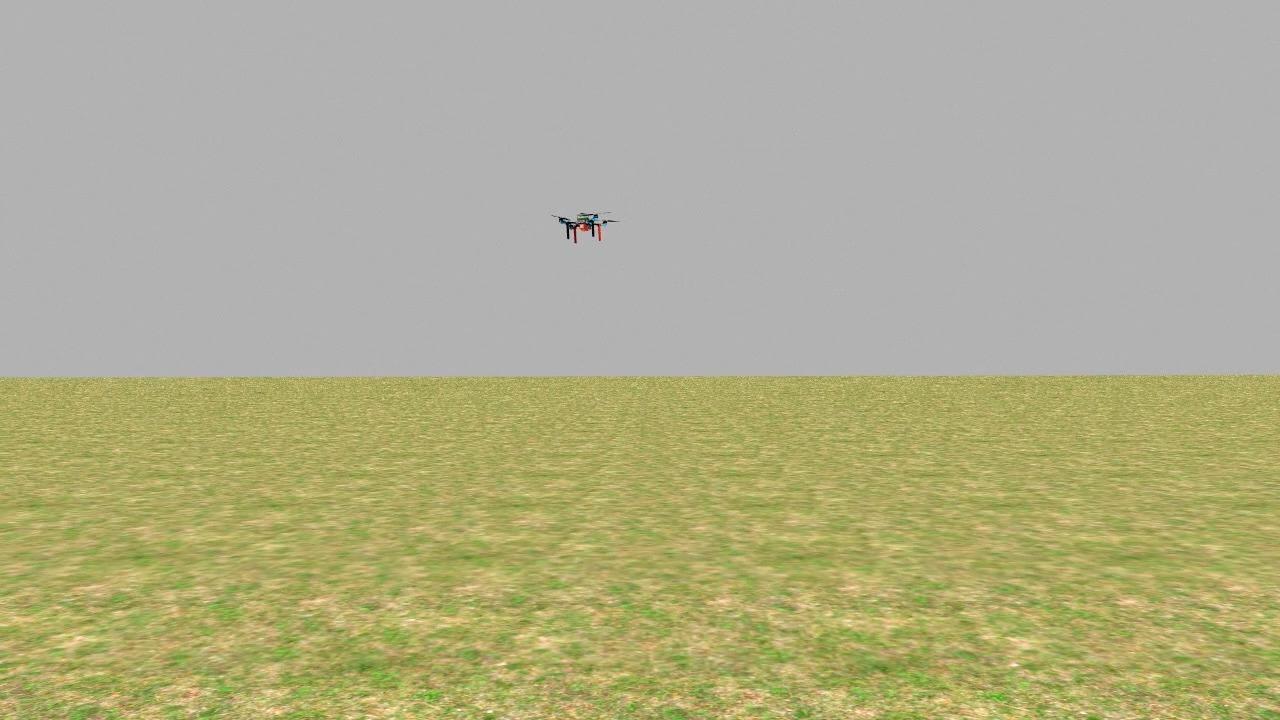UAV: (546, 204, 621, 253)
